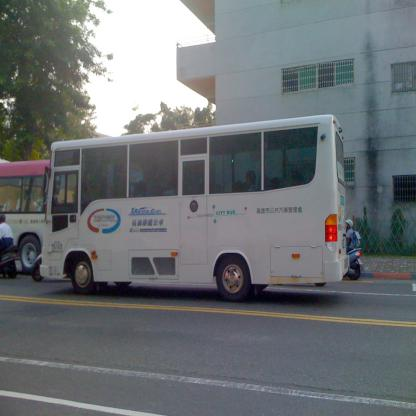Bus: (39, 113, 351, 304), (0, 159, 52, 274)
